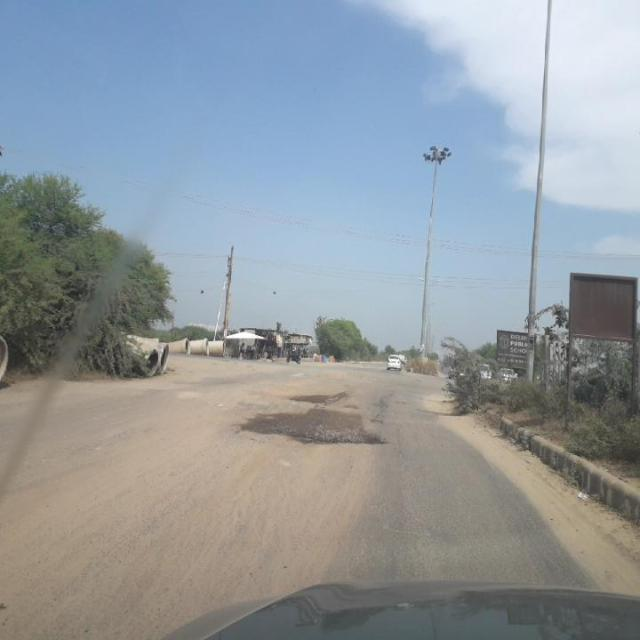D40: (219, 383, 393, 442)
